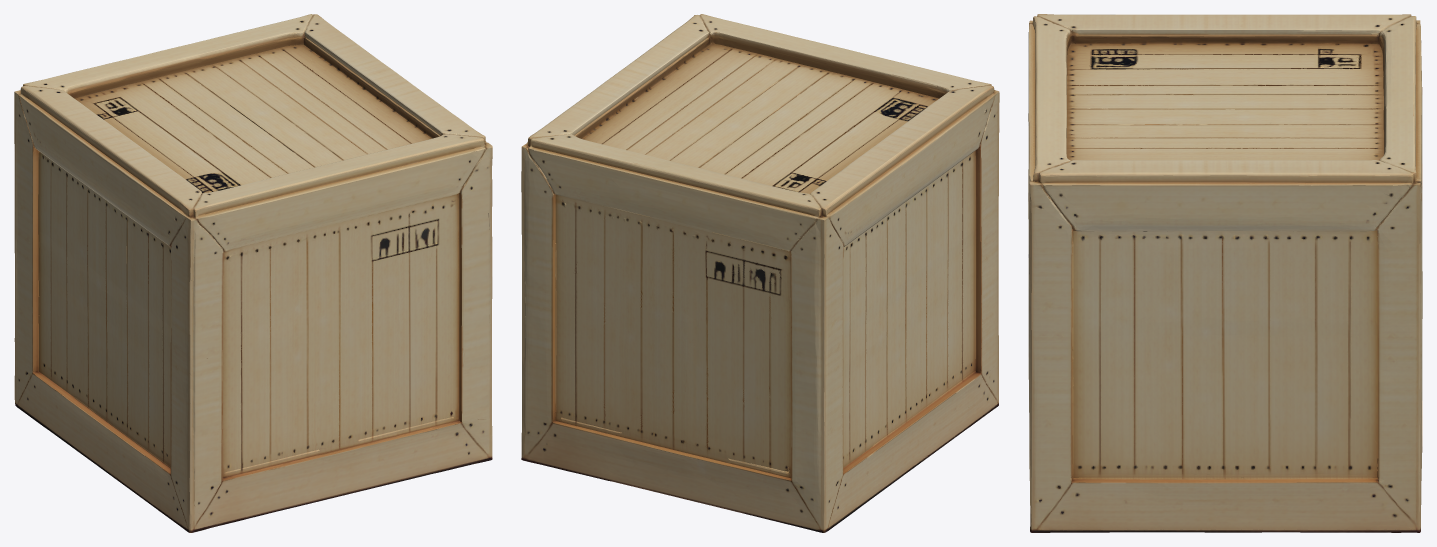
File: Copilot3D-476b16ad-5ec6-4a80-a2e8-14904a25dfcd.glb
3 renders of one model, left to right at view 1: azimuth 30°, elevation 25°; view 2: azimuth 150°, elevation 25°; view 3: azimuth 270°, elevation 25°, orthographic. The views are drawn at different scales.
Visible parts, largest first — view 1: world; view 2: world; view 3: world.
Part boxes in pixels (bbox=[...]): world: bbox=[14, 14, 492, 532]; world: bbox=[521, 14, 999, 532]; world: bbox=[1028, 14, 1422, 532].
Bounding box in the file's own units: 0.9931 × 1 × 0.9999.
Materials: 1 (1 with a texture image).
